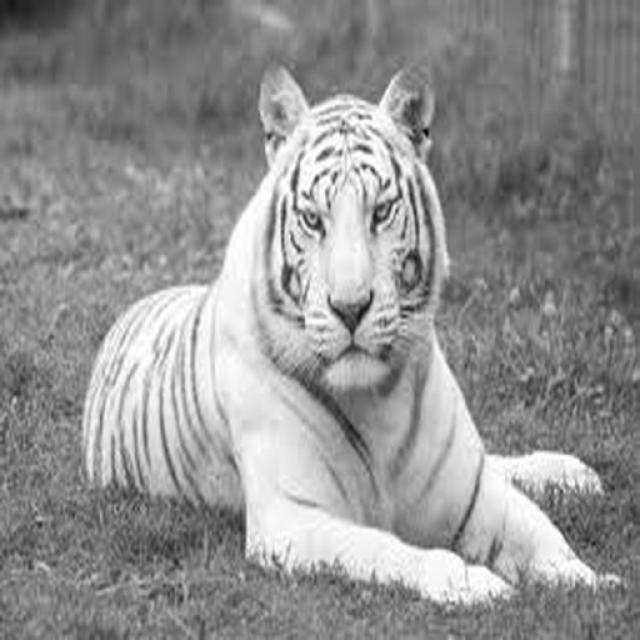Tiger: (77, 60, 625, 608)
